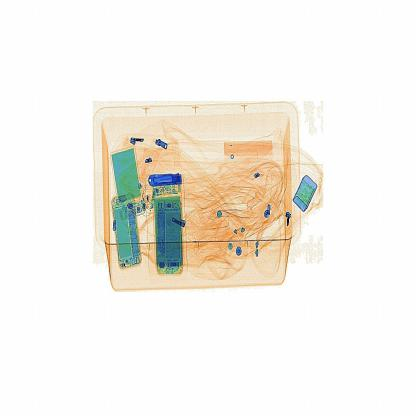knife: (144, 170, 192, 192)
